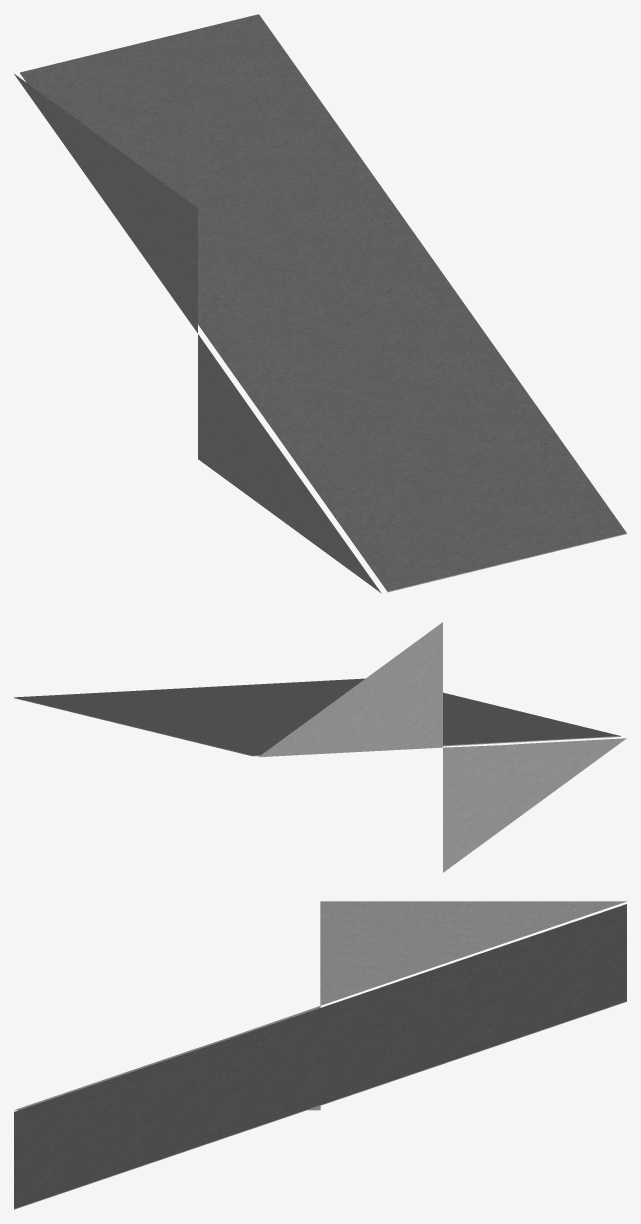
File: Rise_stub.FBX
3 views of the same model, one above another, from view 1: azimuth 30°, elevation 25°; view 2: azimuth 150°, elevation 25°; view 3: azimuth 270°, elevation 25° (orthographic). The views are drawn at different scales.
Parts seen in each view (by area): view 1: Ground, Rise_stub; view 2: Rise_stub, Ground; view 3: Ground, Rise_stub.
Boxes of the visible parts, <box> form: Ground: <box>20,14,626,592</box>; Rise_stub: <box>14,74,381,593</box>; Rise_stub: <box>259,622,626,872</box>; Ground: <box>14,678,620,756</box>; Ground: <box>14,904,626,1209</box>; Rise_stub: <box>14,901,626,1110</box>.
Size of the model in its own units: 3075 by 3010 by 8000.
Materials: 1 (1 with a texture image).
